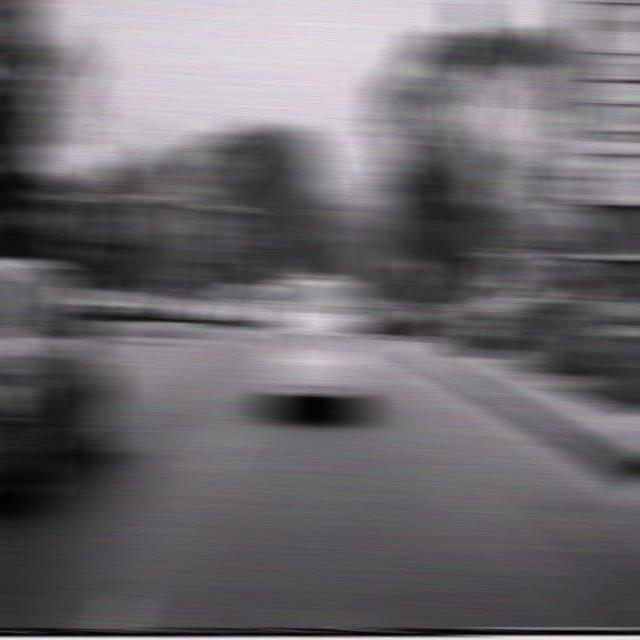stop_sign: (414, 258, 442, 280)
